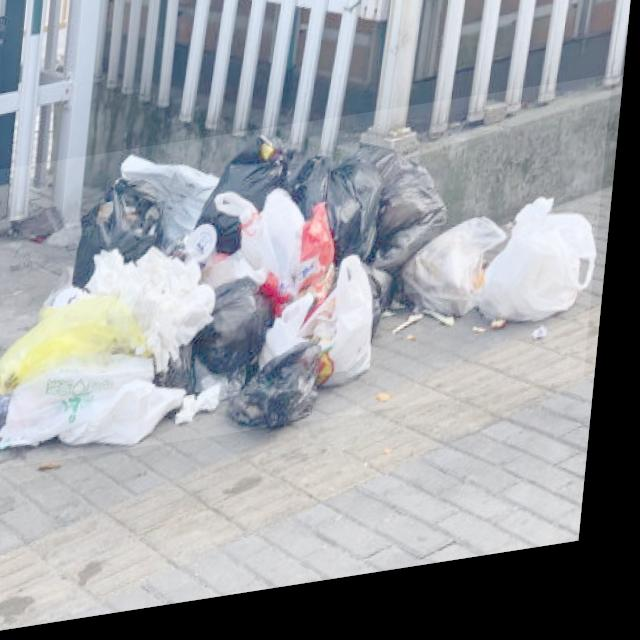garbage: (0, 95, 616, 476)
